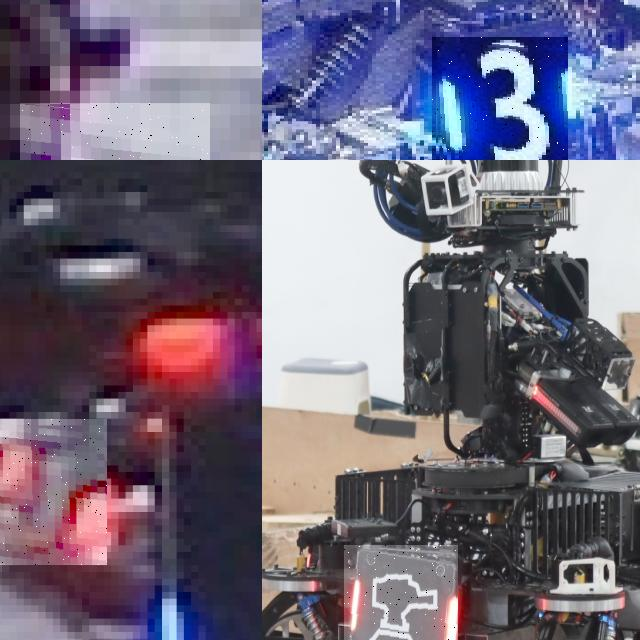B3: (432, 37, 568, 160)
R1: (0, 418, 107, 565)
R4: (20, 102, 210, 160)
Rs: (344, 545, 458, 640)
